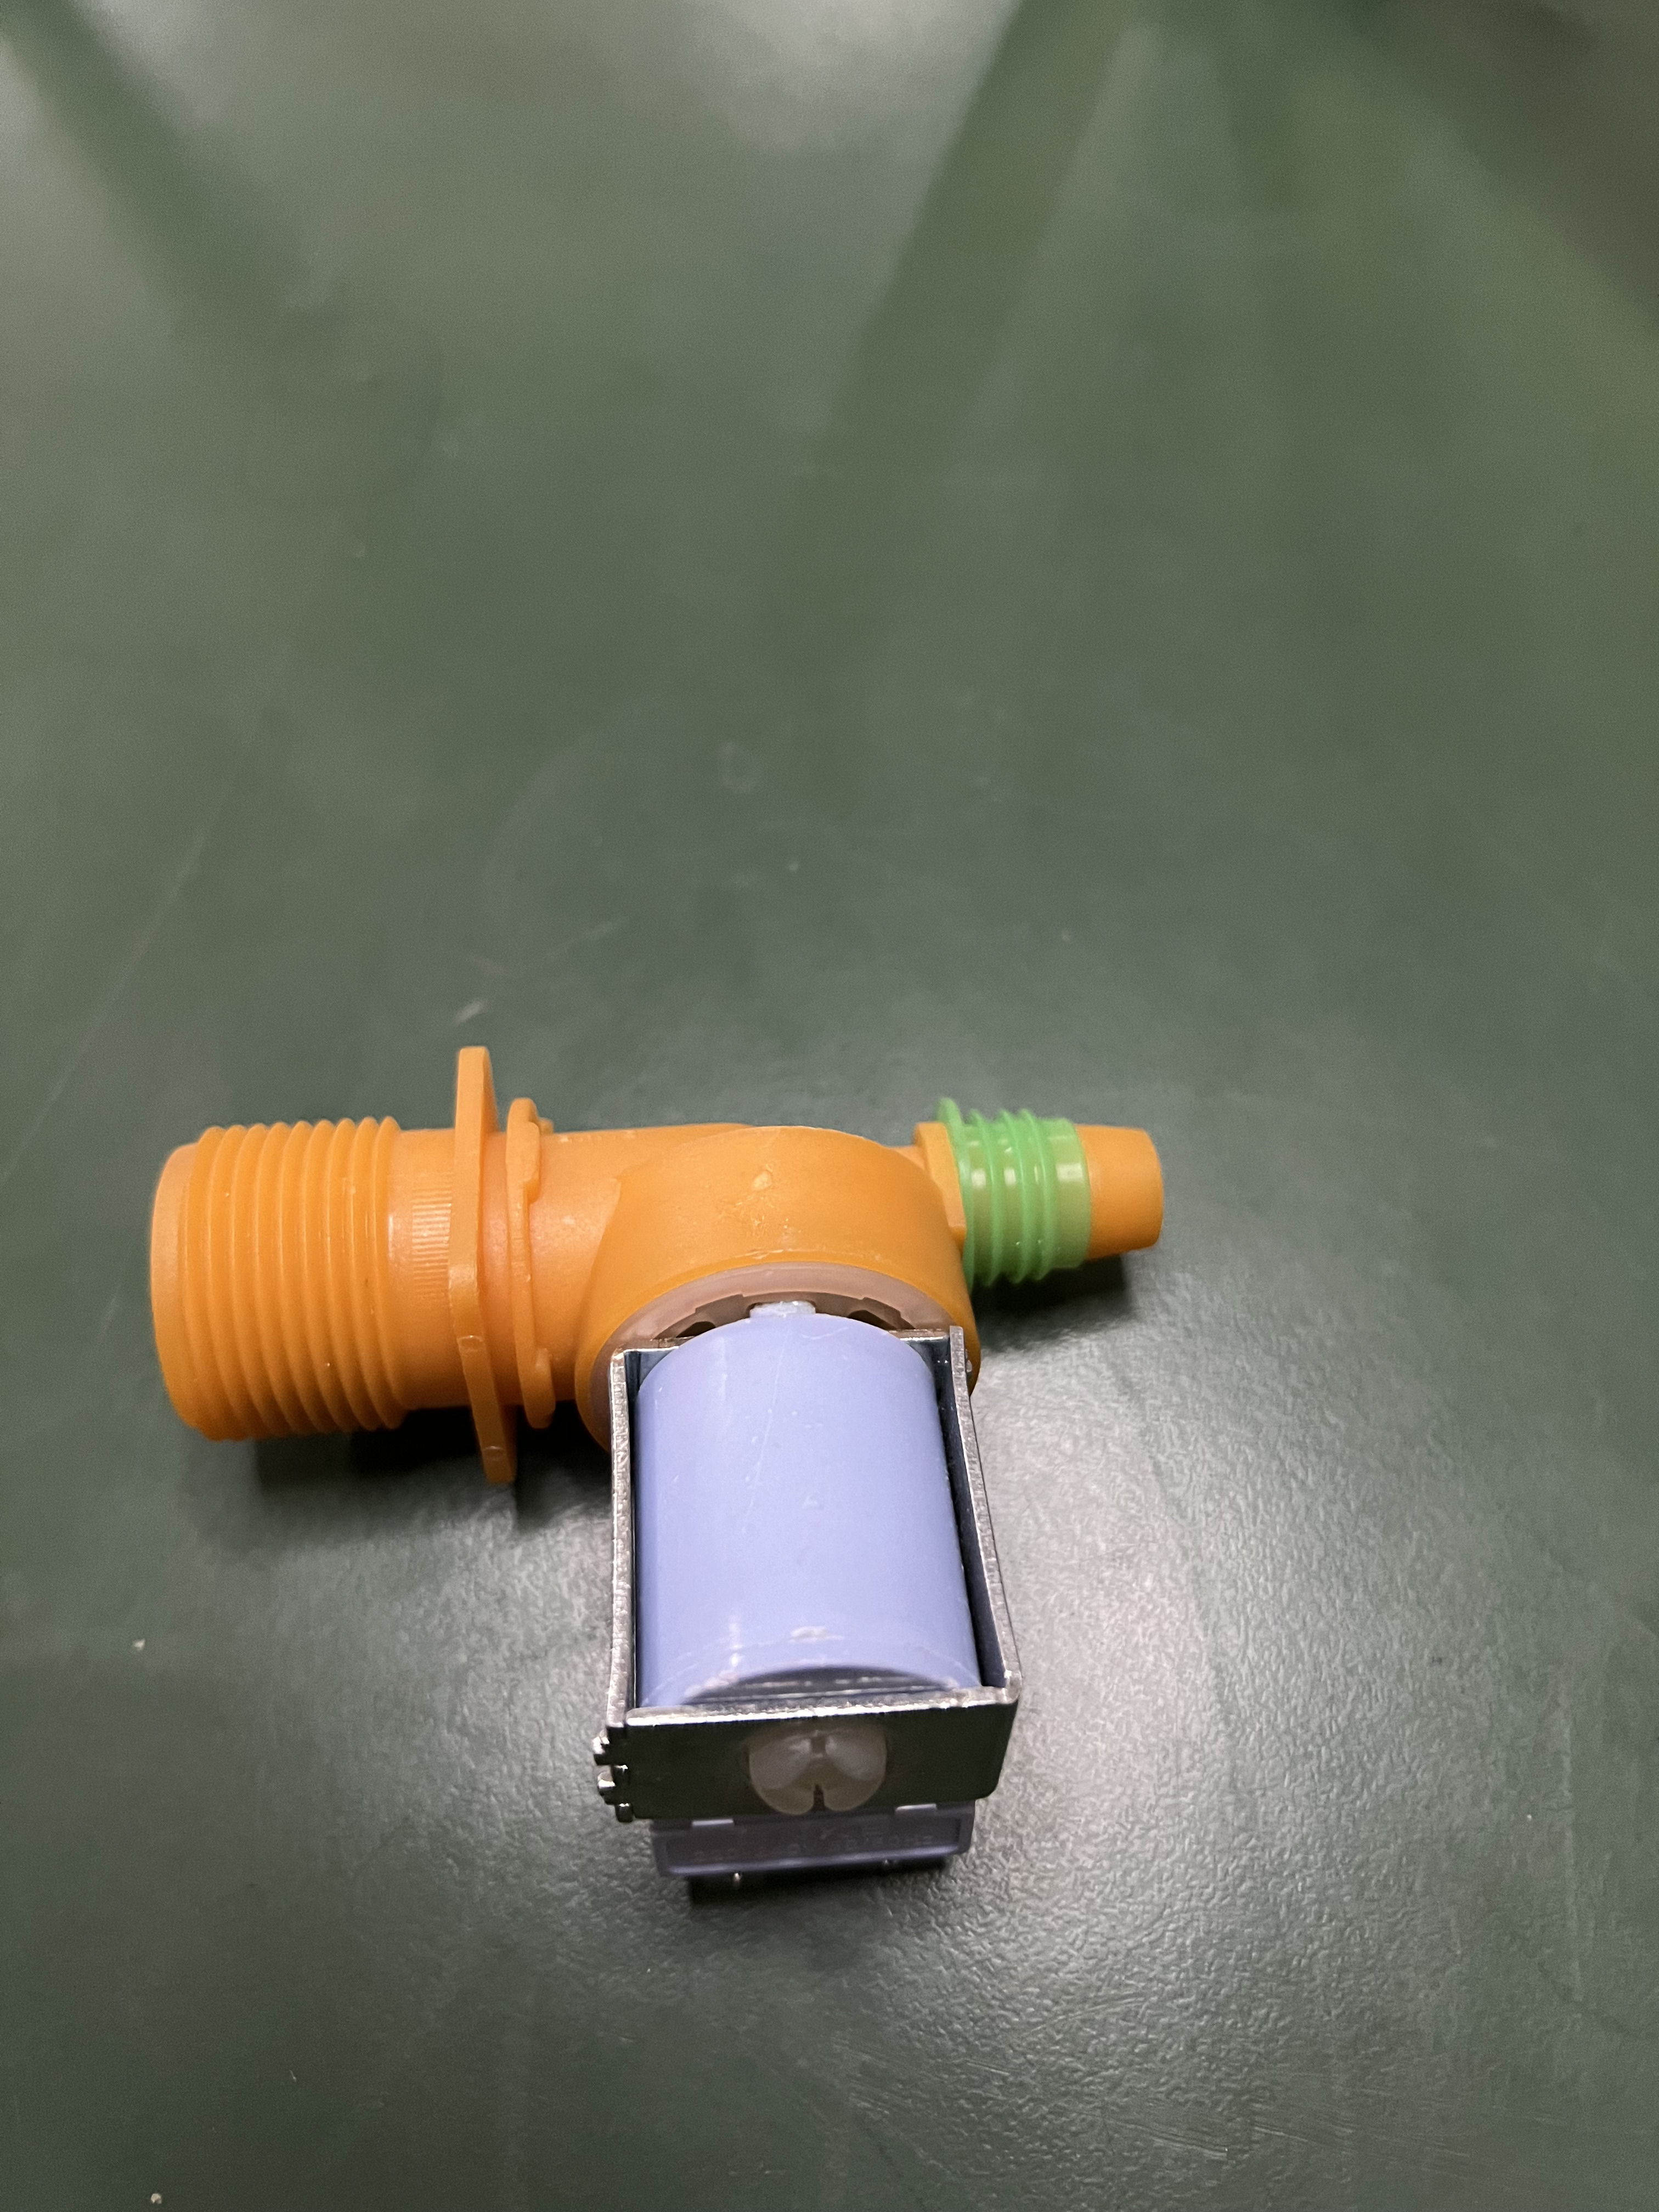ss_inlet_valves: (117, 1029, 1195, 1952)
